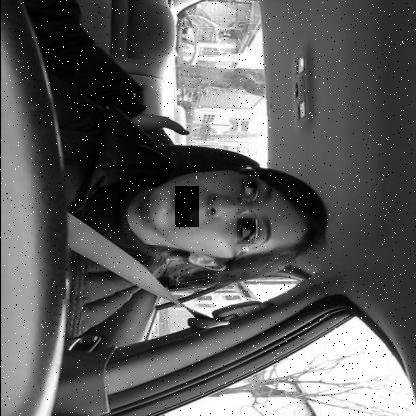seatbelt: (66, 136, 346, 302)
